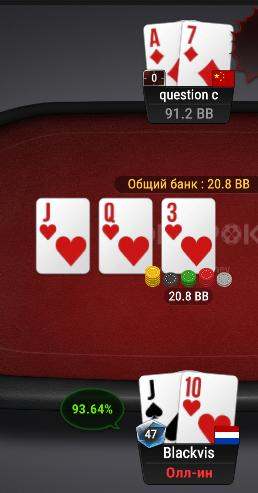10h: (179, 370, 238, 444)
3h: (163, 199, 214, 273)
7d: (181, 21, 234, 87)
Ad: (144, 21, 181, 85)
Jh: (37, 200, 89, 273)
Js: (138, 373, 181, 443)
Qh: (100, 199, 153, 273)
